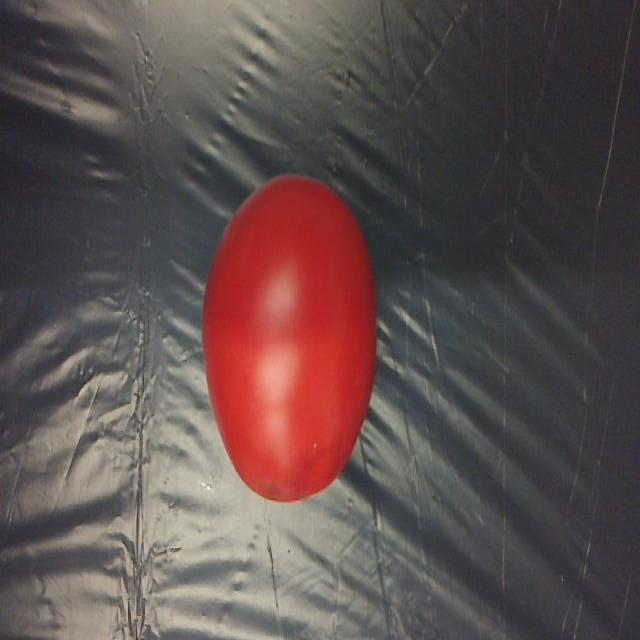kirmizi: (206, 154, 373, 509)
